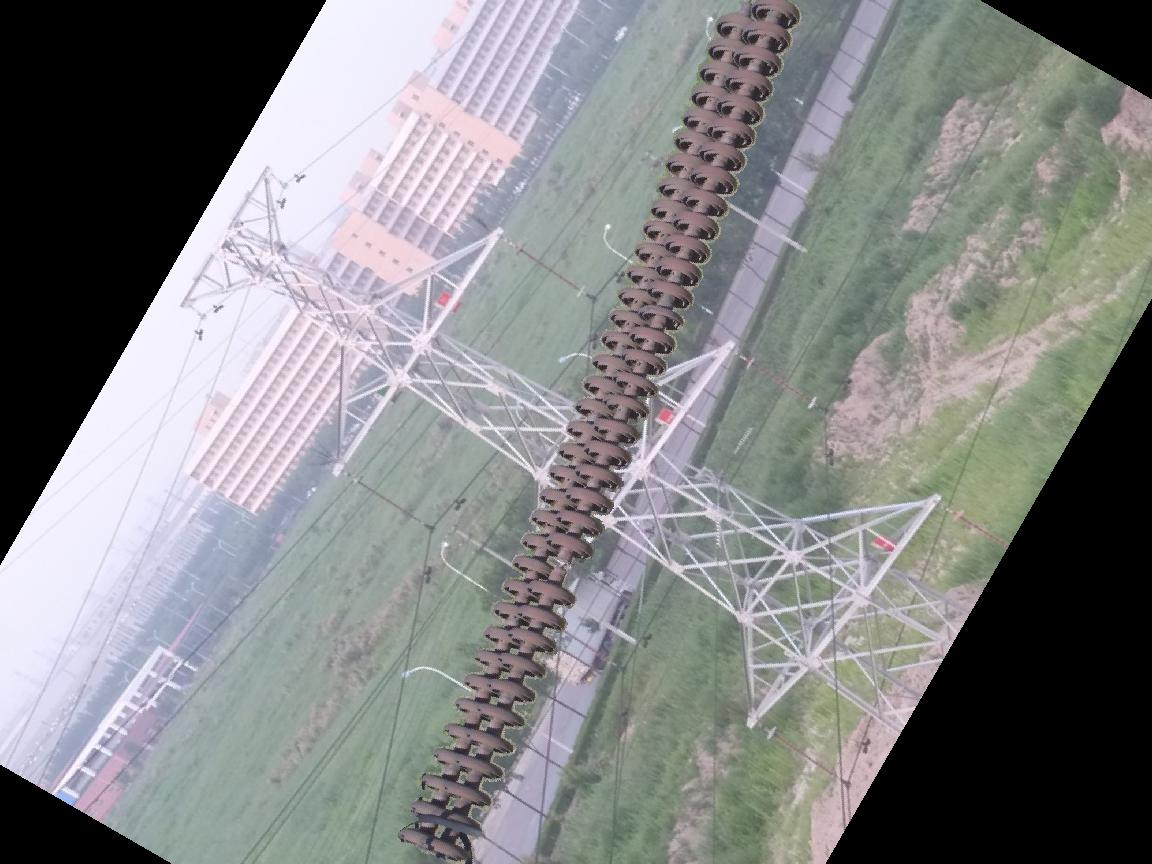insulator: (396, 1, 807, 864)
insulator_stringdrop: (525, 528, 596, 610)
